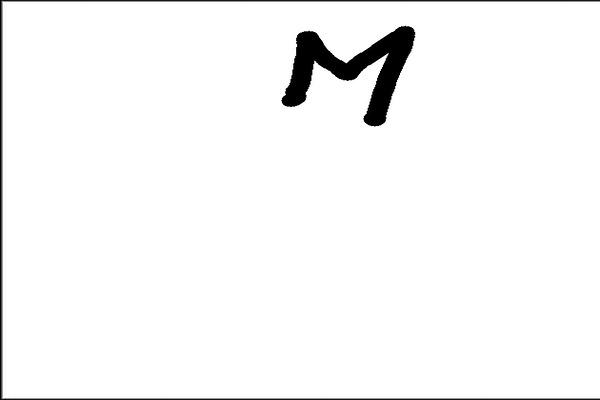M: (280, 24, 414, 127)
